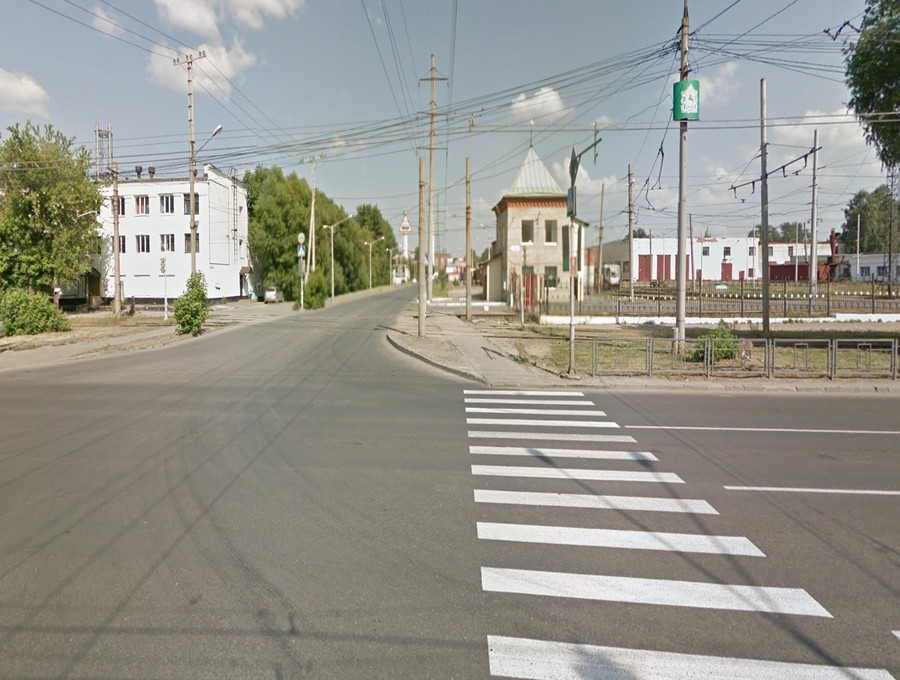Traffic Light-red: (565, 256, 579, 279)
